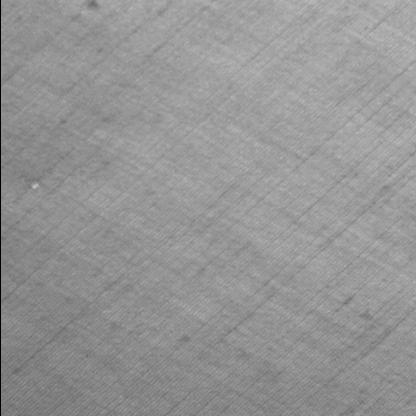hole: (30, 181, 42, 189)
